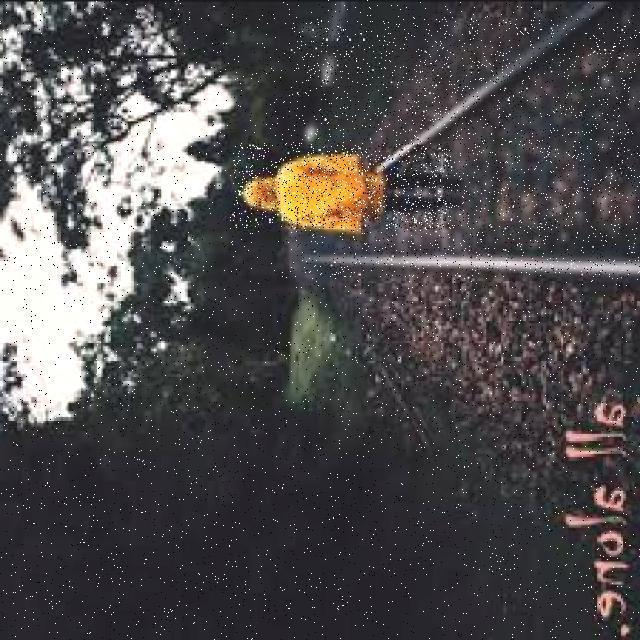danger: (233, 143, 452, 228)
rail: (289, 17, 640, 277)
